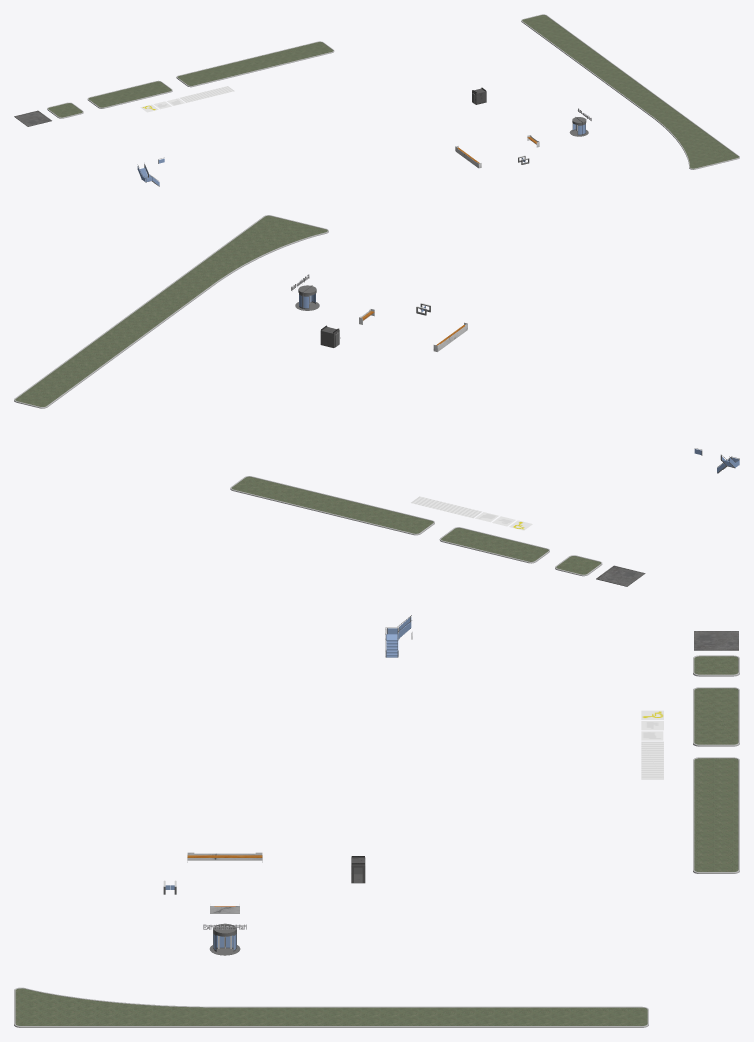
Rendered from building-details.fbx.
3 views of the same model, one above another, from view 1: azimuth 30°, elevation 25°; view 2: azimuth 150°, elevation 25°; view 3: azimuth 270°, elevation 25° (orthographic). The views are drawn at different scales.
Visible parts, largest first — view 1: SM_grass_block_uniq, SM_grass_block_large, SM_grass_block_middle, SM_grass_block_small, SM_walkway_block, SM_road_walkway; view 2: SM_grass_block_uniq, SM_grass_block_large, SM_grass_block_middle, SM_grass_block_small, SM_walkway_block, SM_road_walkway; view 3: SM_grass_block_uniq, SM_grass_block_large, SM_grass_block_middle, SM_grass_block_small, SM_walkway_block, SM_road_walkway.
Part boxes in pixels (x1,y1,x2,y2): SM_grass_block_uniq: (521, 14, 739, 169); SM_grass_block_large: (176, 41, 334, 87); SM_grass_block_middle: (87, 80, 172, 108); SM_grass_block_small: (47, 102, 83, 118); SM_walkway_block: (14, 110, 51, 126); SM_road_walkway: (180, 86, 234, 102); SM_grass_block_uniq: (14, 215, 328, 408); SM_grass_block_large: (230, 476, 434, 535); SM_grass_block_middle: (439, 527, 549, 563); SM_grass_block_small: (555, 555, 602, 576); SM_walkway_block: (596, 565, 645, 586); SM_road_walkway: (411, 496, 481, 518); SM_grass_block_uniq: (14, 987, 648, 1027); SM_grass_block_large: (693, 757, 739, 873); SM_grass_block_middle: (693, 687, 739, 746); SM_grass_block_small: (693, 655, 739, 676); SM_walkway_block: (694, 631, 738, 650); SM_road_walkway: (641, 741, 663, 779).
Size of the model in its own units: 12442 by 662 by 9632.
